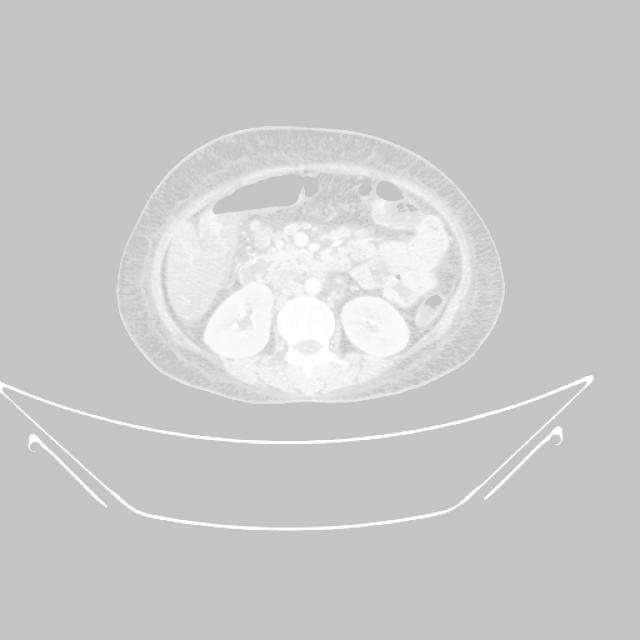NORMAL: (120, 125, 502, 413)
